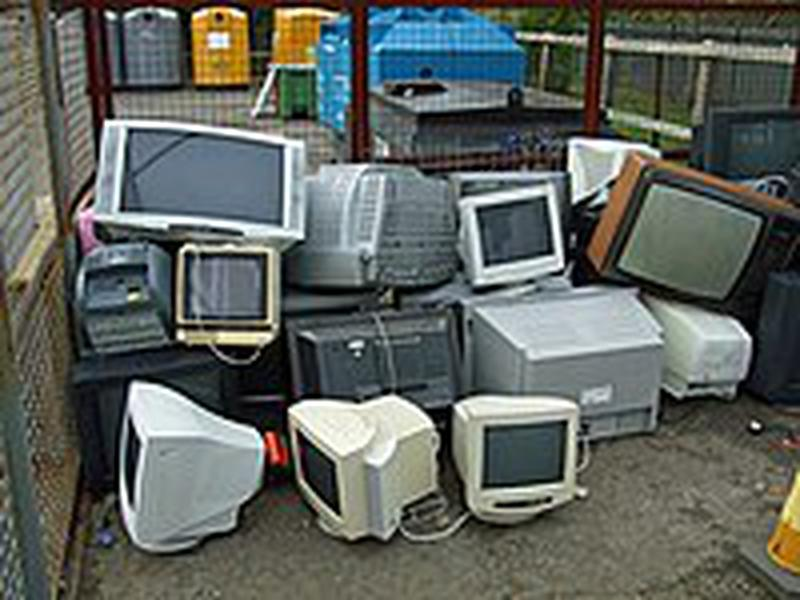tv_pc: (586, 149, 800, 322), (88, 107, 320, 249), (105, 375, 271, 556), (278, 390, 449, 547), (447, 379, 589, 529), (167, 242, 288, 365), (452, 179, 587, 289)
